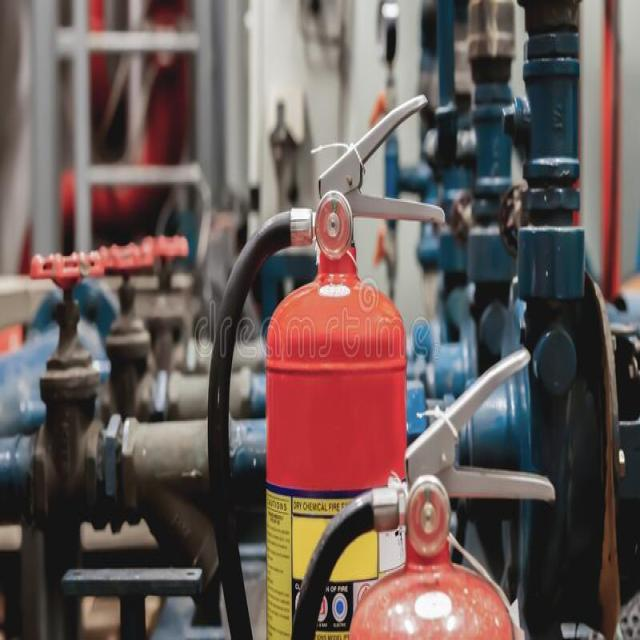fire_extinguisher: (203, 90, 448, 638), (284, 344, 559, 639)
